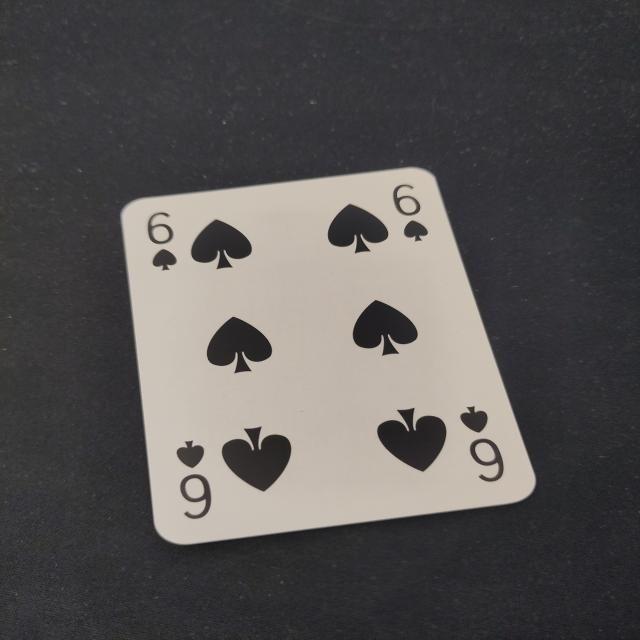6s: (450, 398, 514, 491), (163, 434, 228, 524), (137, 207, 190, 282), (388, 179, 435, 254)
